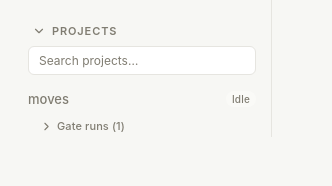
Test: ProjectSidebar — Worktree Run nesting (Slice B) › reveals runs when the disclosure is expanded
The image size is (332, 186).
Click the button "Gate runs (1)" at (91, 126), box [12,115,272,137]
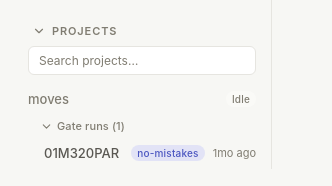
Now the text "01M320PAR" is shown, box [44,145,123,161]
